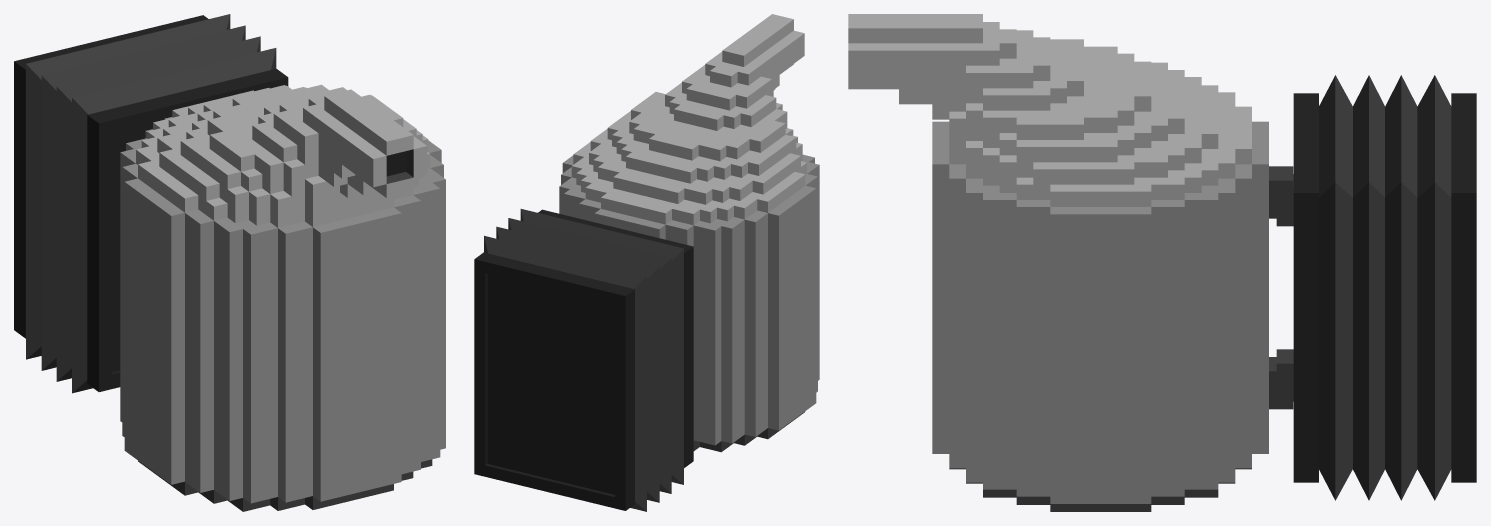
The model's file is BeeSmoker.fbx.
3 renders of one model, left to right at view 1: azimuth 30°, elevation 25°; view 2: azimuth 150°, elevation 25°; view 3: azimuth 270°, elevation 25°, orthographic. The views are drawn at different scales.
Visible parts, largest first — view 1: BeeSmoker; view 2: BeeSmoker; view 3: BeeSmoker.
Boxes of the visible parts, x1,y1,x2,y2 form: BeeSmoker: [14, 14, 445, 511]; BeeSmoker: [474, 14, 819, 511]; BeeSmoker: [848, 14, 1476, 511].
Bounding box in the file's own units: 91 × 127 × 170.
Materials: 1 (1 with a texture image).
